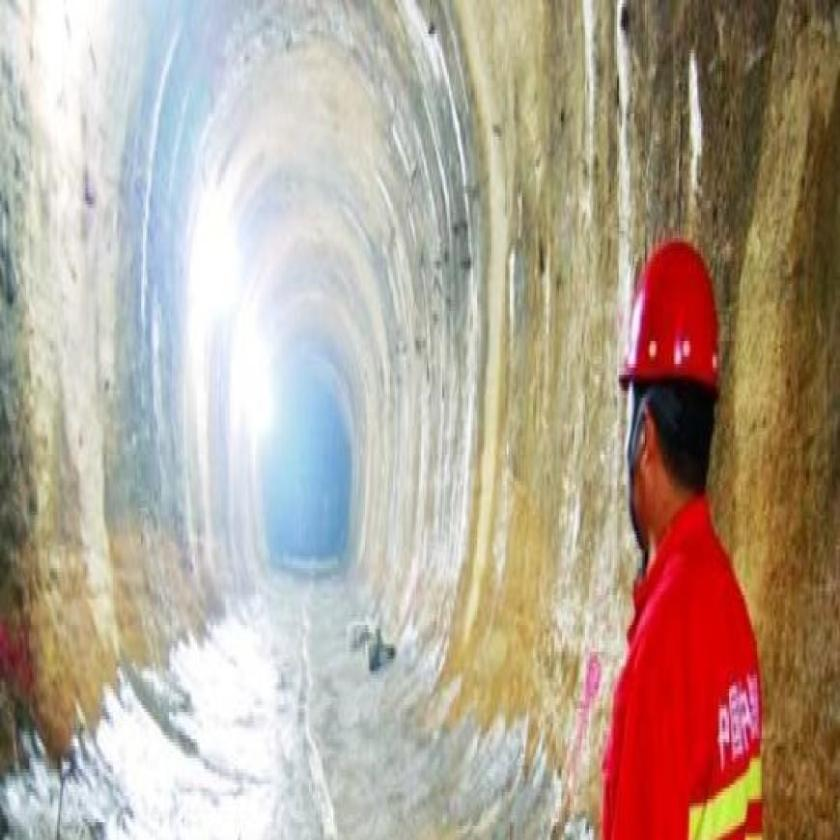Con_casco: (621, 227, 724, 541)
